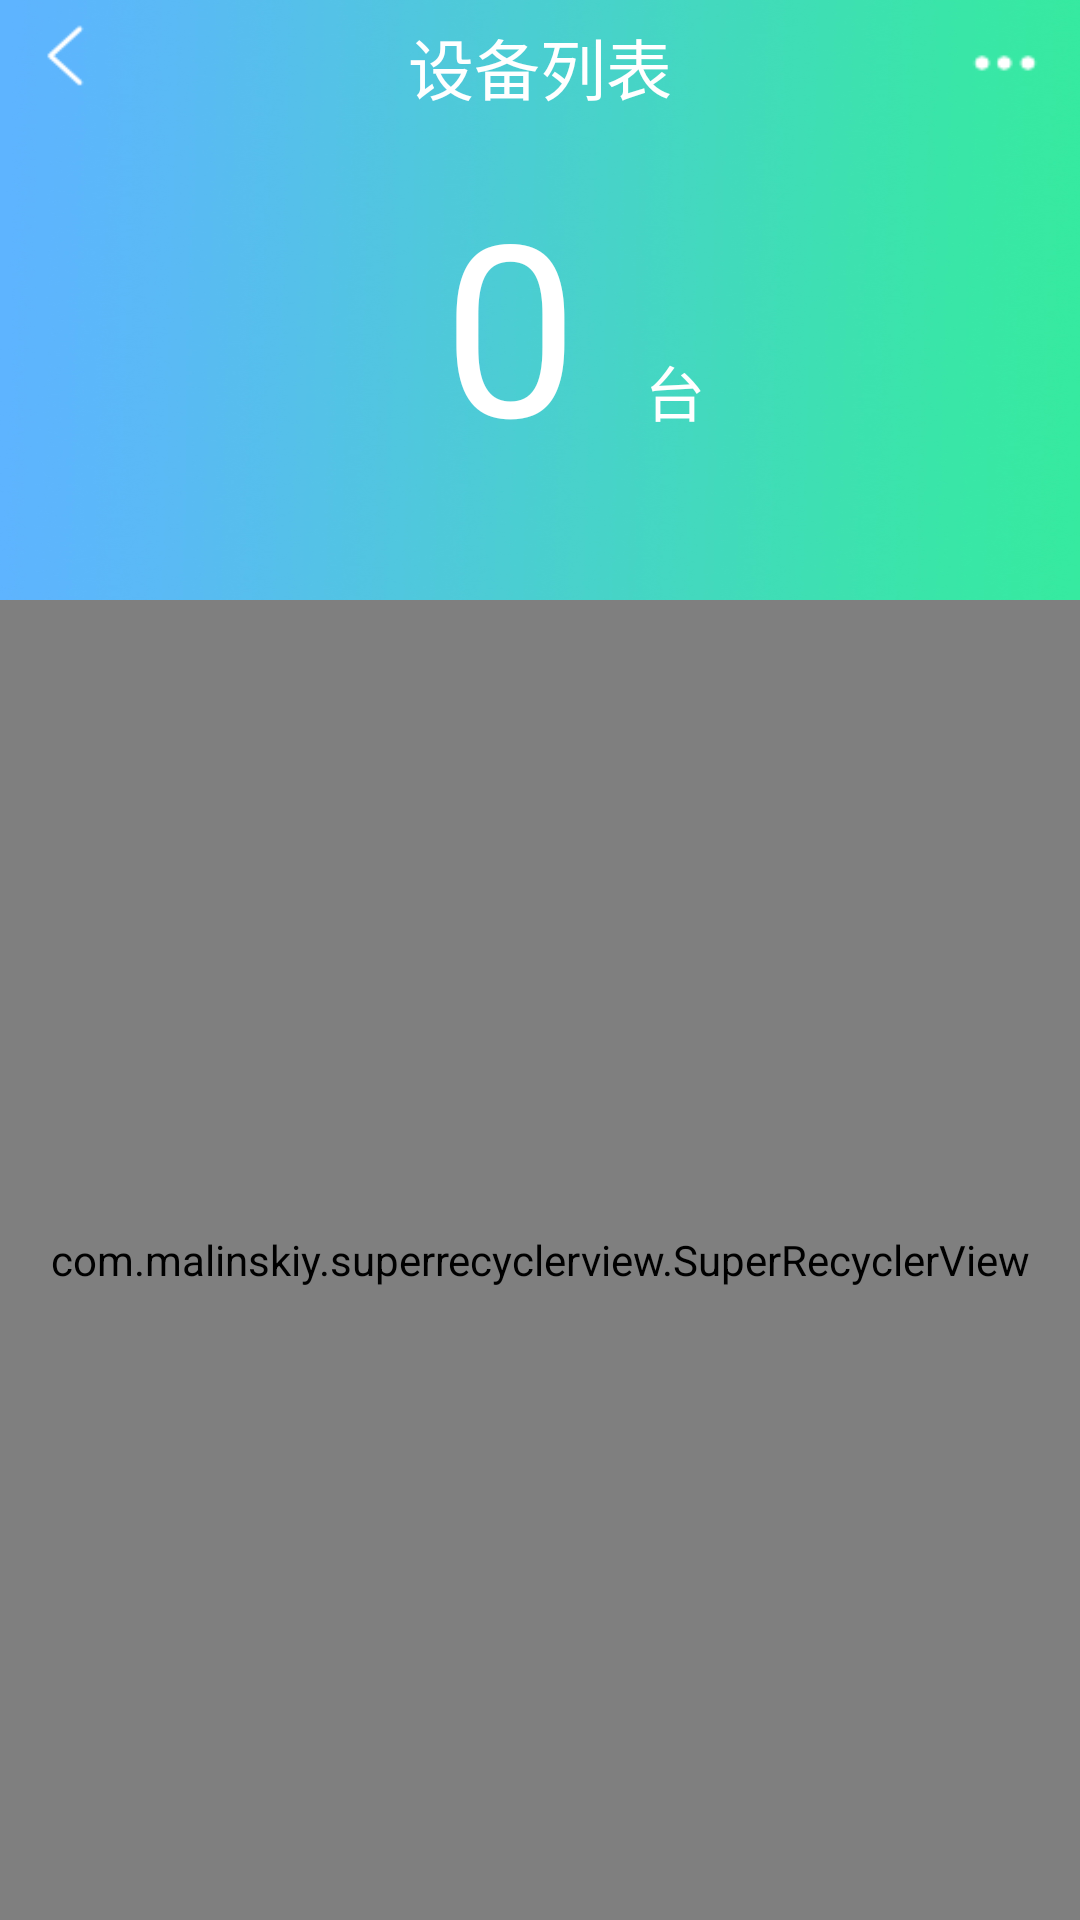

Named icons in this screenshot (1080px×1920px) and their bounding boxes, (left=x1, top=y1, right=x2, bottom=y2):
back: (left=47, top=26, right=83, bottom=86)
more: (left=974, top=55, right=1036, bottom=71)
